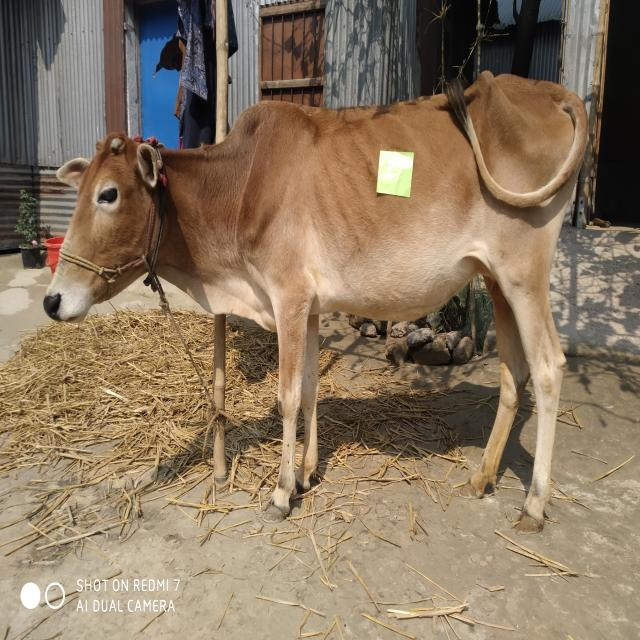badan_sapi: (274, 102, 564, 310)
sapi: (46, 73, 594, 529)
